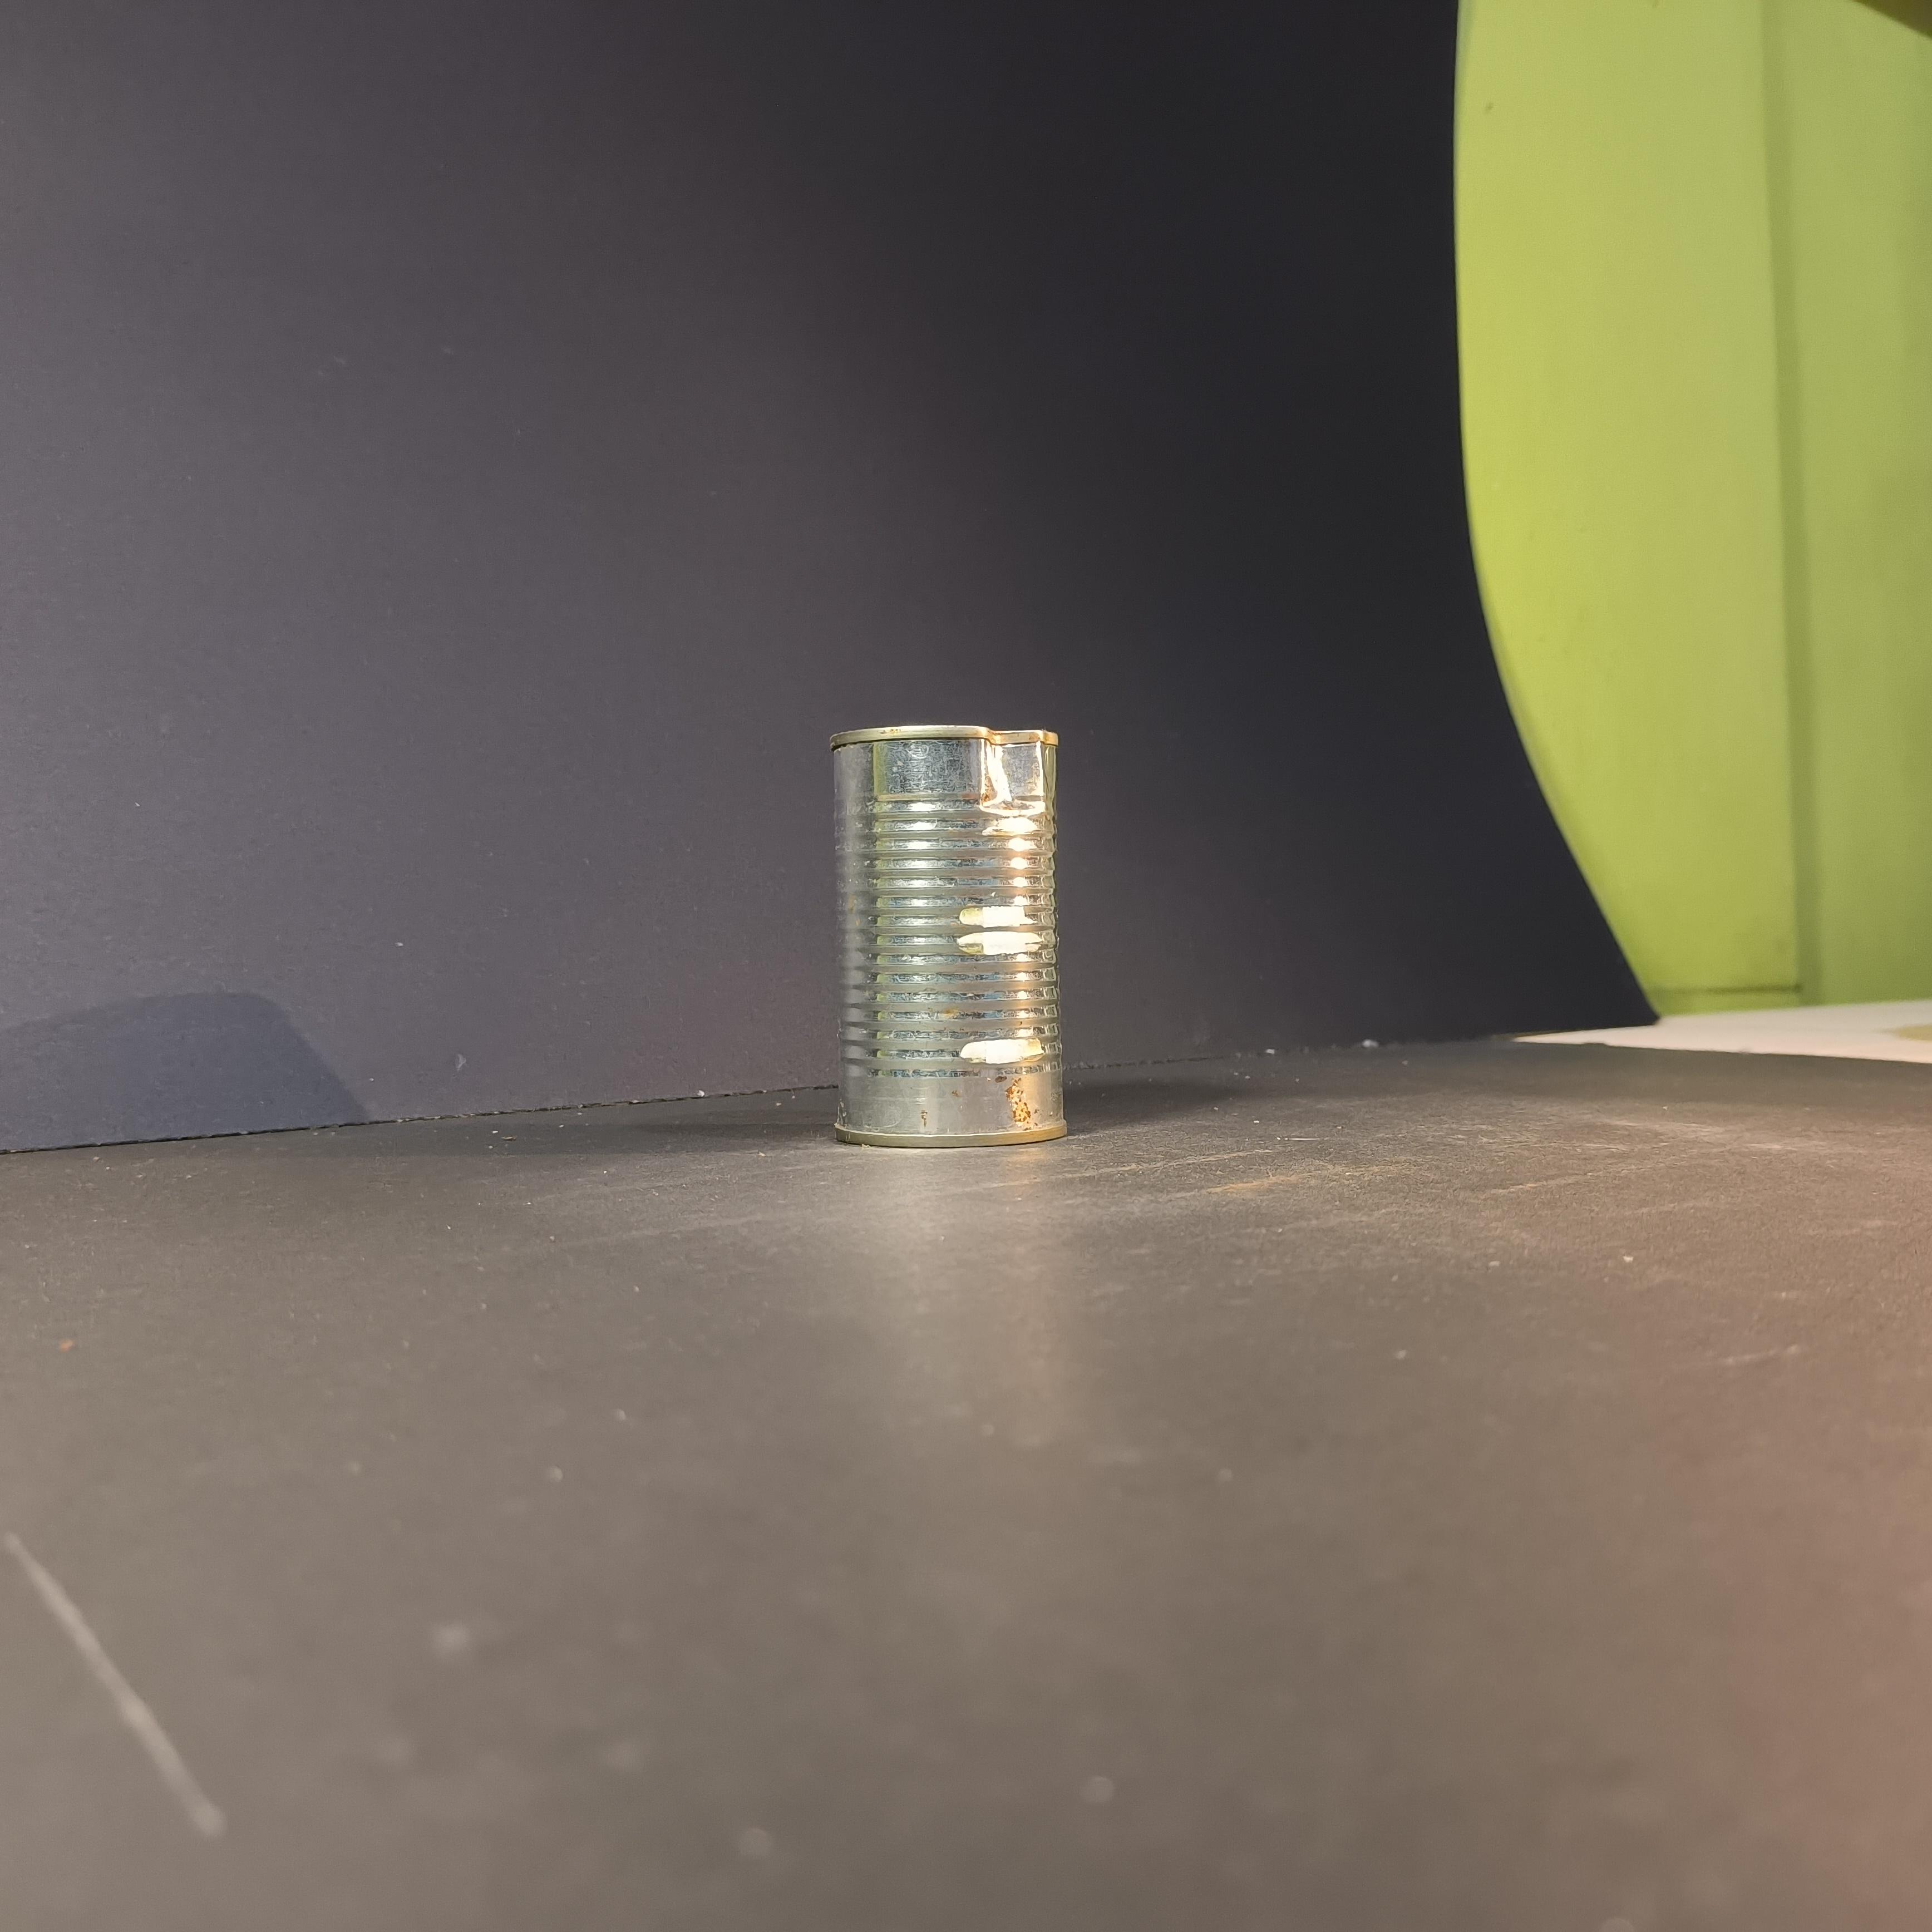Critical Defect: (830, 724, 1069, 1148)
